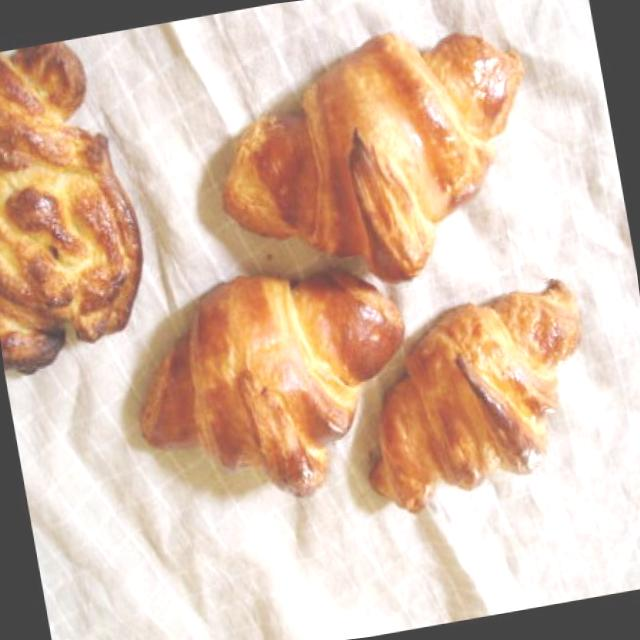Croissant: (192, 9, 572, 313), (123, 250, 428, 538), (338, 266, 616, 526)
